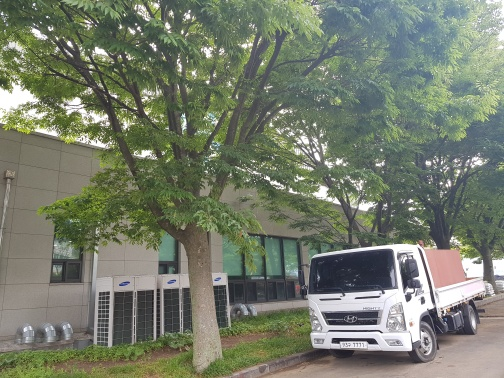Gym: (23, 115, 302, 360)
